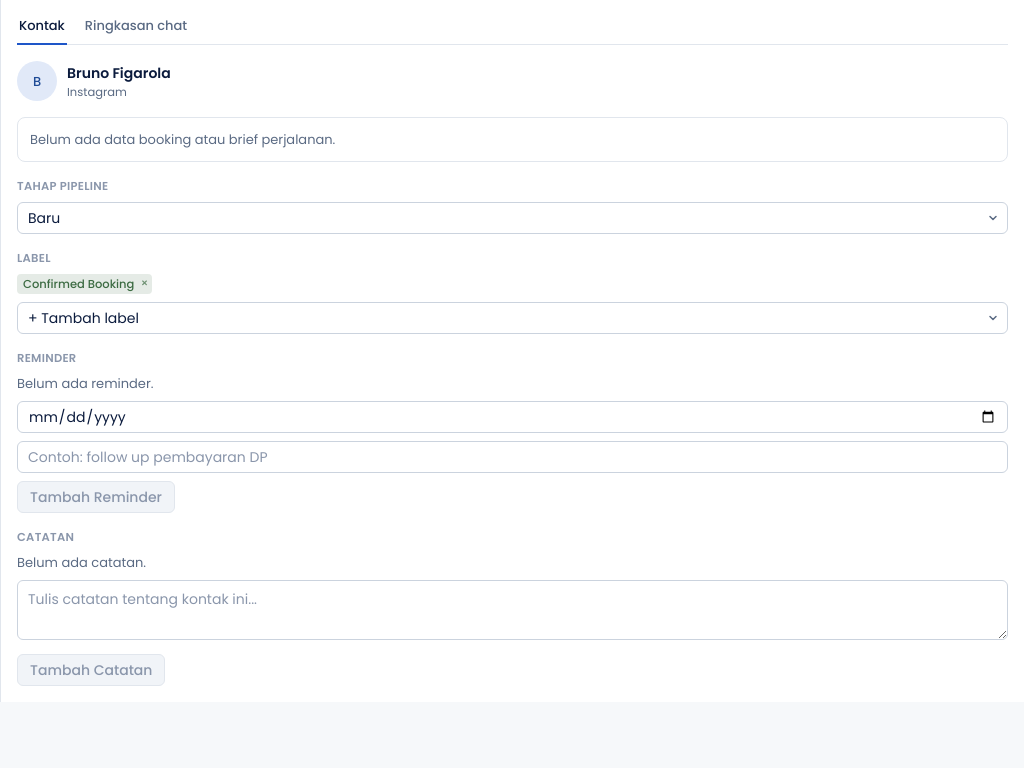
Test: ContactPanel › does not change the displayed pipeline stage when the PATCH responds non-ok, and shows an error
This screenshot has width=1024, height=768.
Expected: the text "Bruno Figarola" is shown, [67,62,171,82]
Step 1. Select "Booked" in the dropdown named "Tahap pipeline" → [512, 218], box [17,202,1008,234]
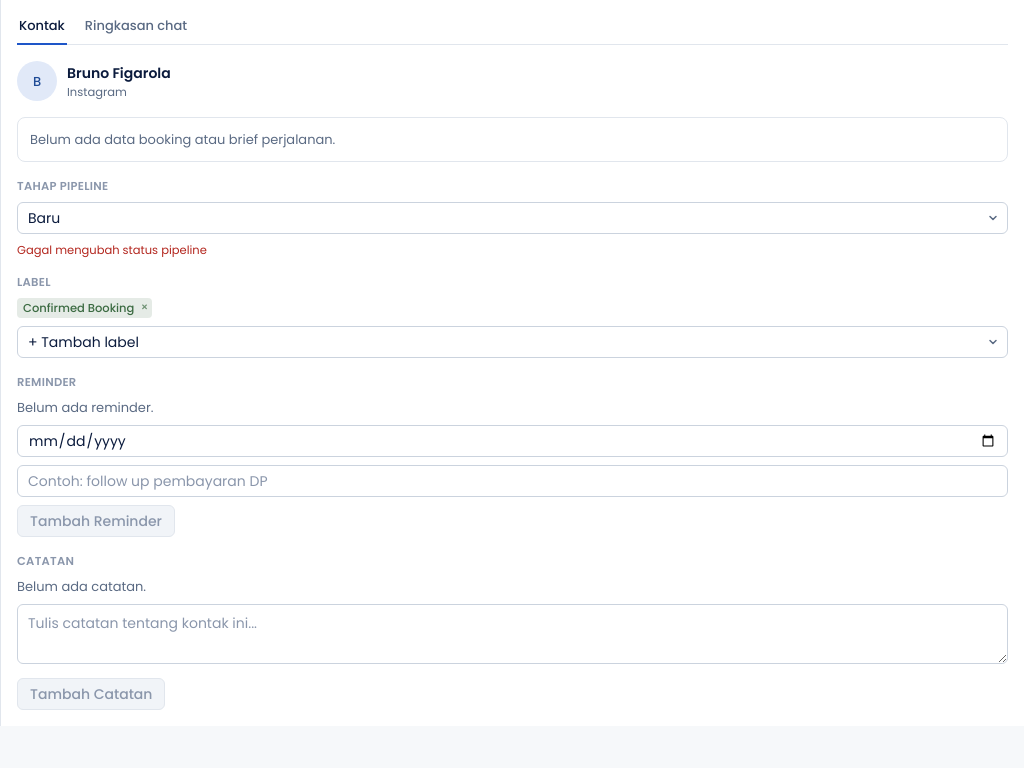
Result: the text "Gagal mengubah status pipeline" is shown at [17,242,207,258]
